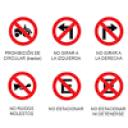NoEstacionar: (52, 70, 82, 100)
NoVirarDireita: (92, 15, 124, 47)
NoVirarEsquerda: (51, 16, 82, 46)
